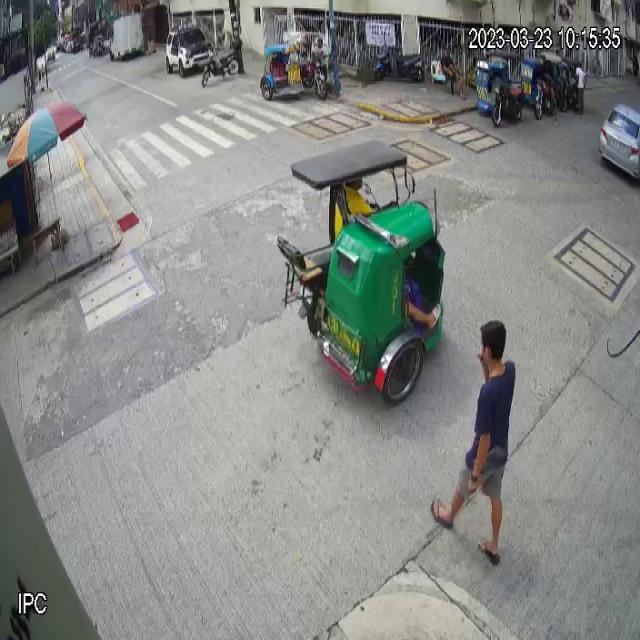Tricycle: (276, 137, 449, 405), (260, 29, 328, 102), (476, 51, 525, 127)
